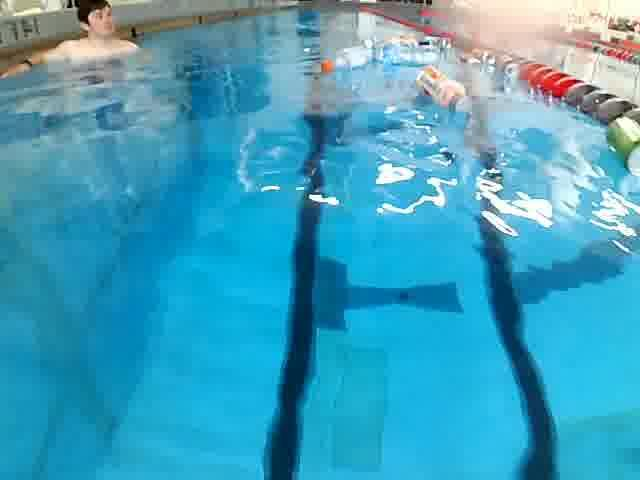Bottle: (408, 63, 478, 122), (319, 40, 387, 77)
Can: (598, 115, 640, 196)
